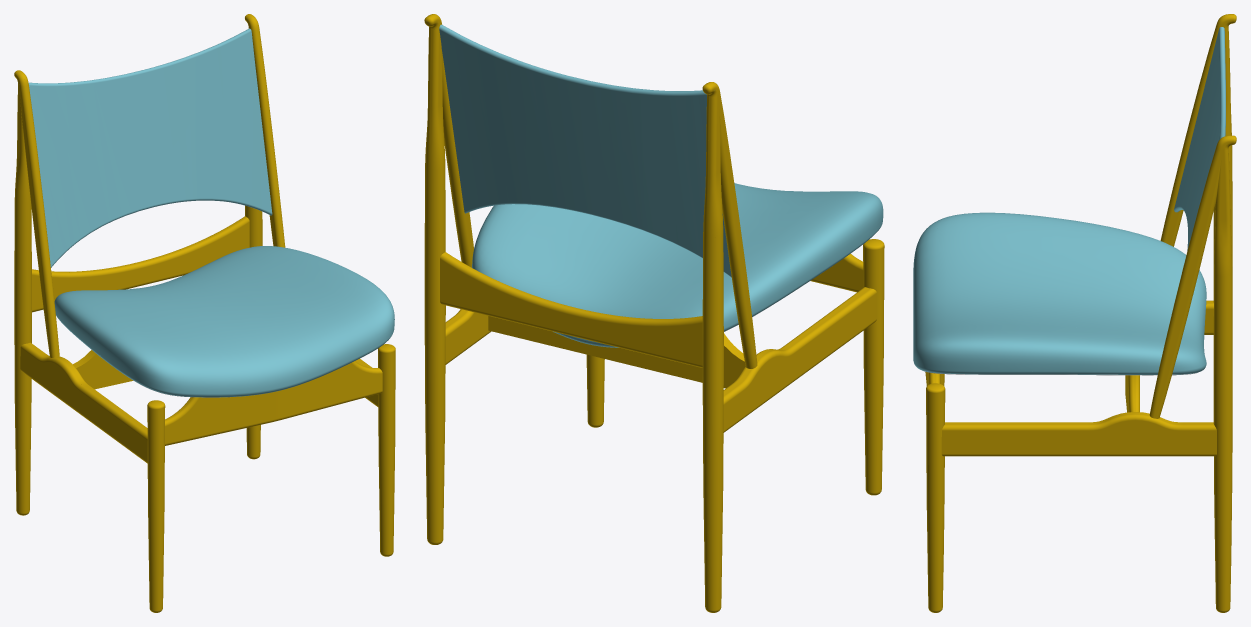
The picture shows the model from 3 angles, left to right: view 1: azimuth 30°, elevation 25°; view 2: azimuth 150°, elevation 25°; view 3: azimuth 270°, elevation 25°; orthographic projection. The views are drawn at different scales.
Parts seen in each view (by area): view 1: Chair2; view 2: Chair2; view 3: Chair2.
Boxes of the visible parts, box(x1,y1,x2,y2) form: Chair2: box(14, 14, 395, 612); Chair2: box(424, 14, 884, 612); Chair2: box(913, 14, 1236, 612).
Bounding box in the file's own units: 0.5667 × 0.9122 × 0.5625.
